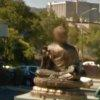Statue: (32, 22, 88, 93)
